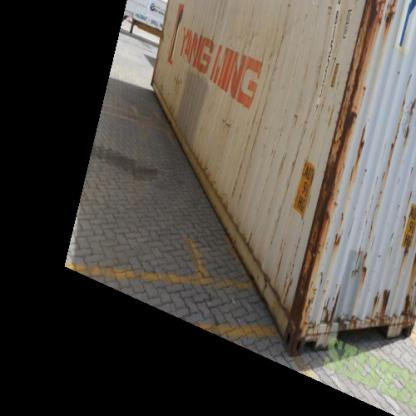Damage: (299, 109, 364, 350), (345, 1, 410, 41), (368, 279, 392, 318), (166, 65, 186, 97), (221, 104, 238, 130)
